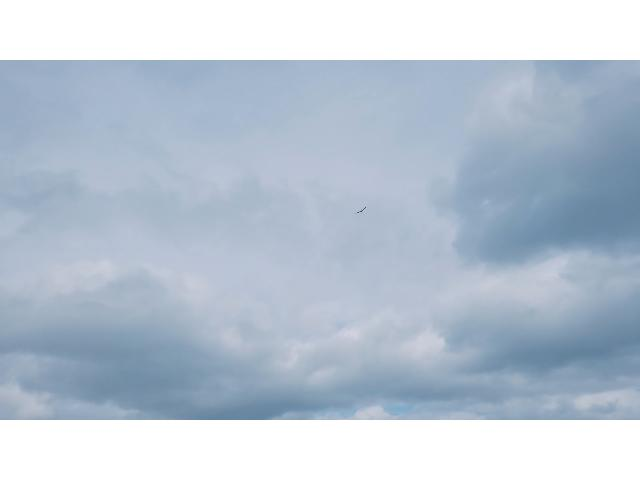Anti-Drone: (354, 205, 368, 215)
